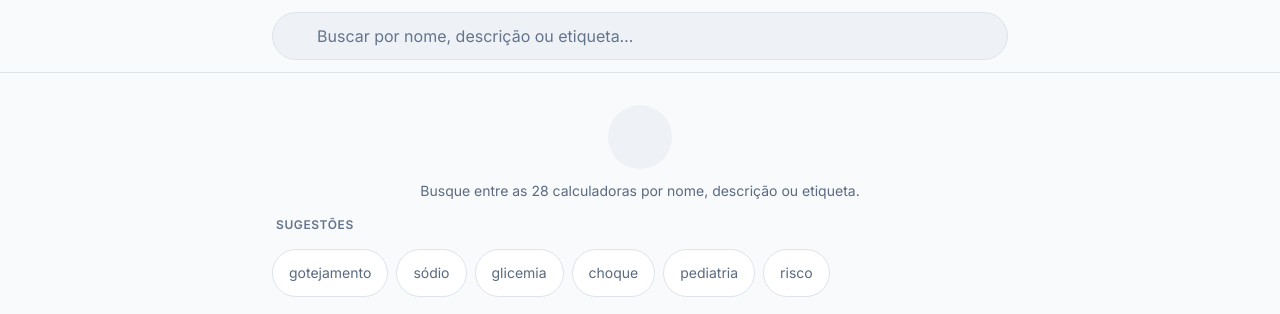
Test case: SearchView › filters as the query is typed
Type "sódio" into the search field with placeholder "Buscar por nome, descrição ou etiqueta…" at (640,36), box x1=272 y1=12 x2=1008 y2=60
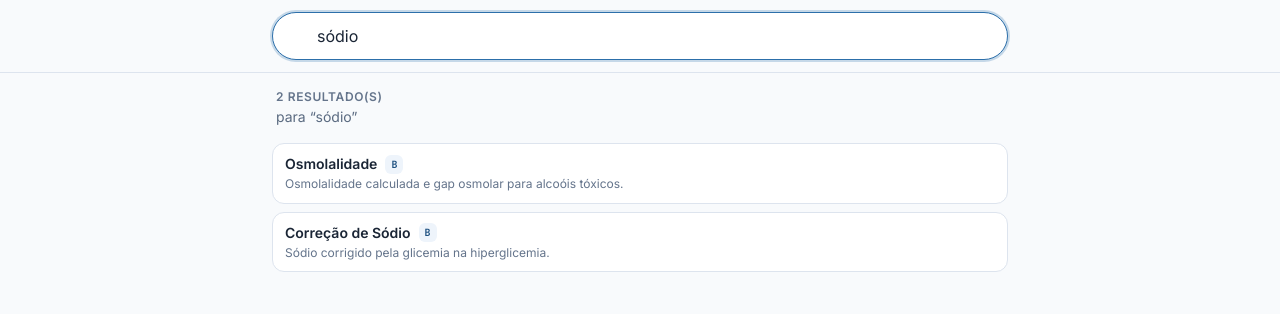
Check: the text "Correção de Sódio" is shown, box x1=285 y1=222 x2=410 y2=242
Check: the text "gotejamento" is gone
